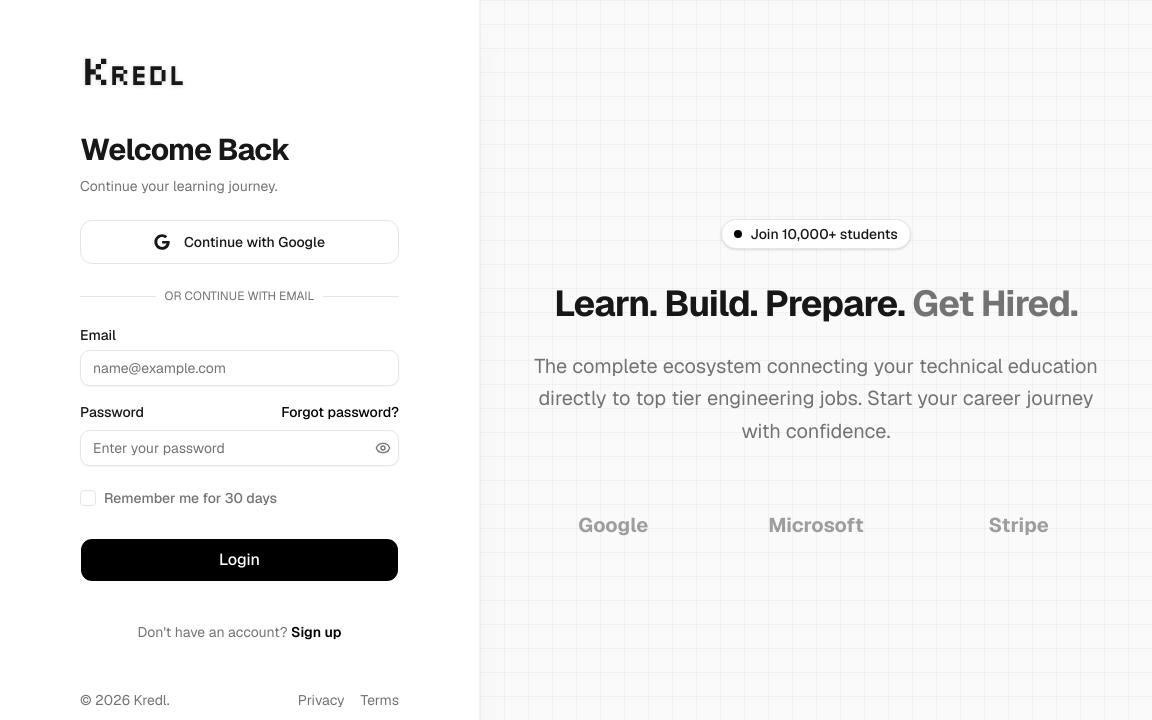
Test: LoginPage › should show error when login fails
Type "test@example.com" into the field labelled "Email". click: (240, 368)
box: [80,350,399,386]
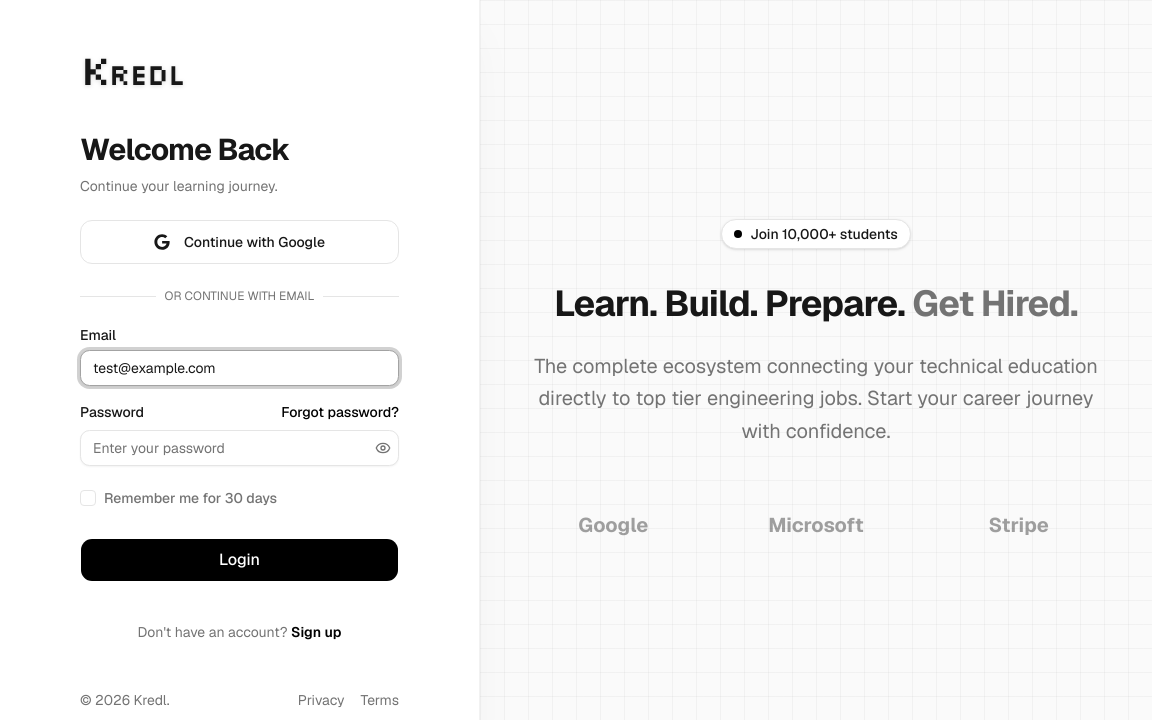
Type "password123" into the password field labelled "Password". click: (240, 448)
box: [80,430,399,466]
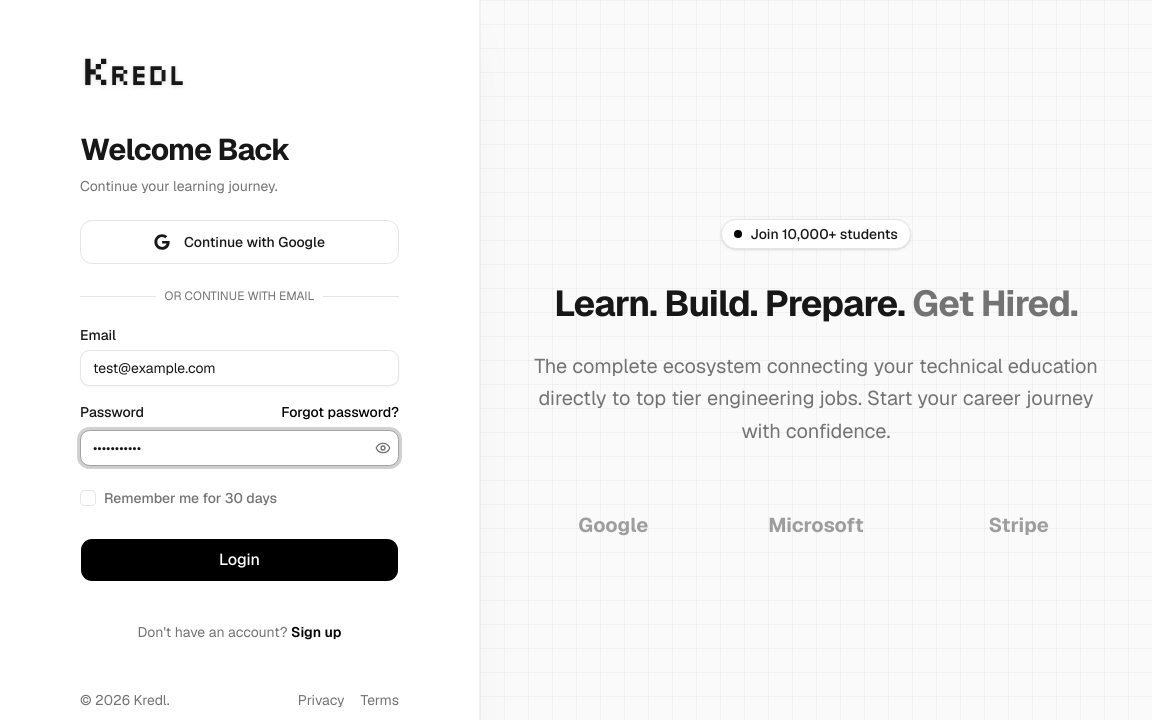
Click the button "Login". click: (240, 560)
box: [80,538,399,582]
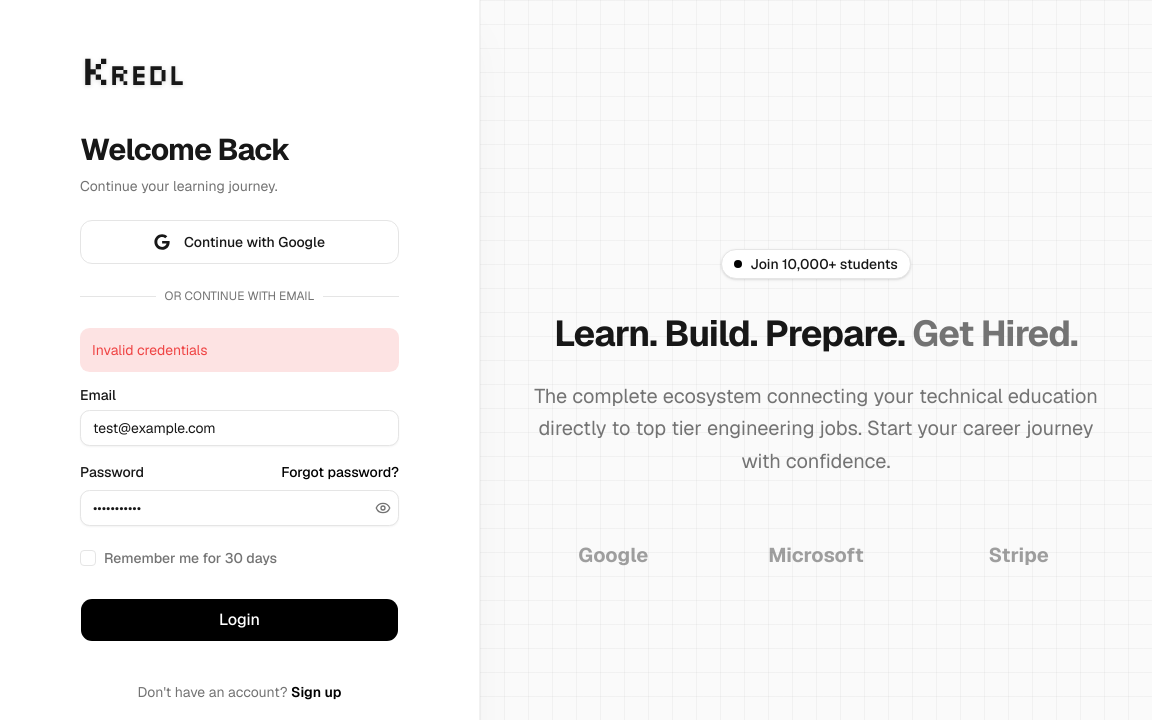
Expected: the text "Invalid credentials" is shown, [80,328,399,372]
